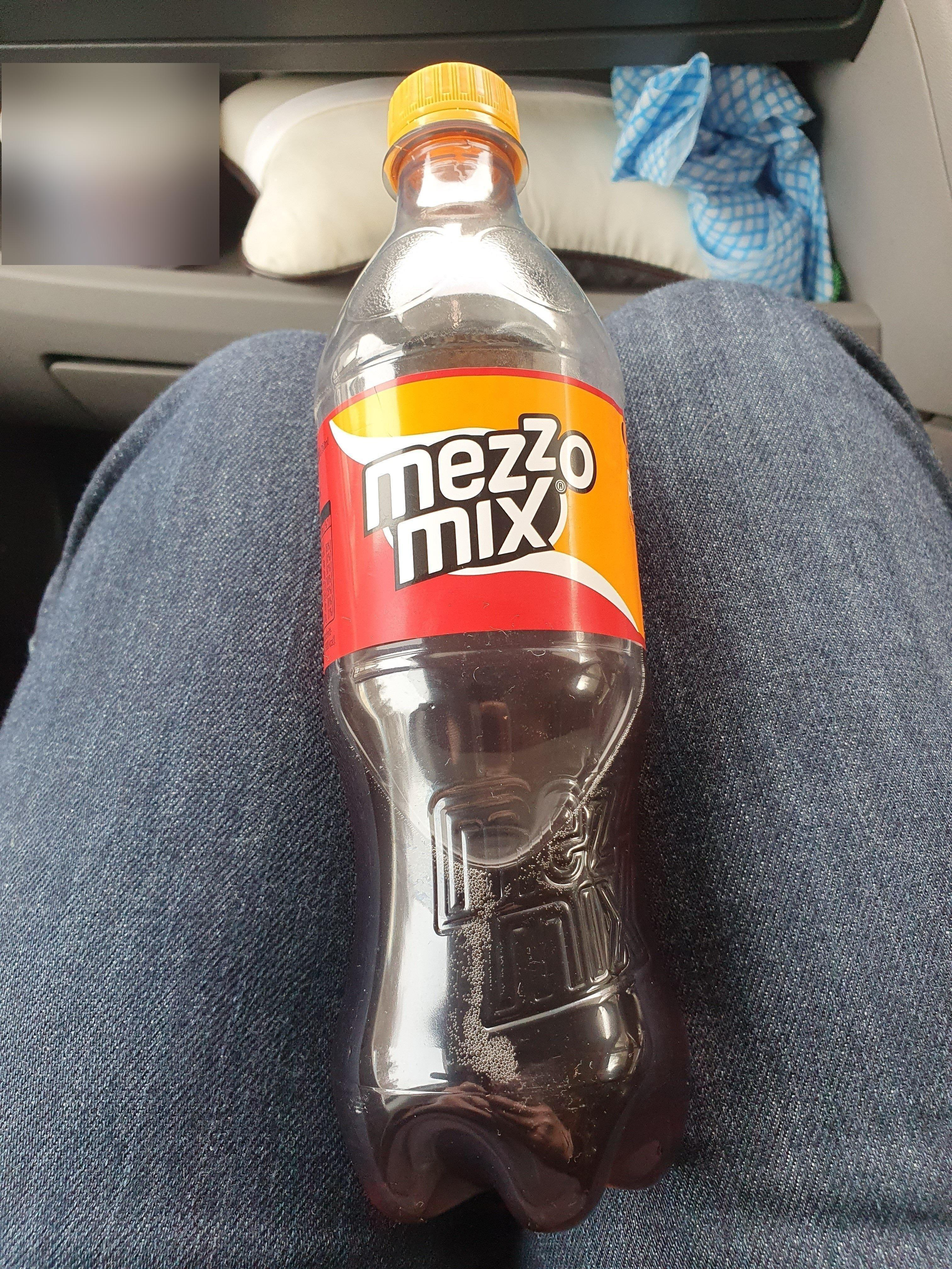bottle-plastic: (309, 64, 699, 1232)
